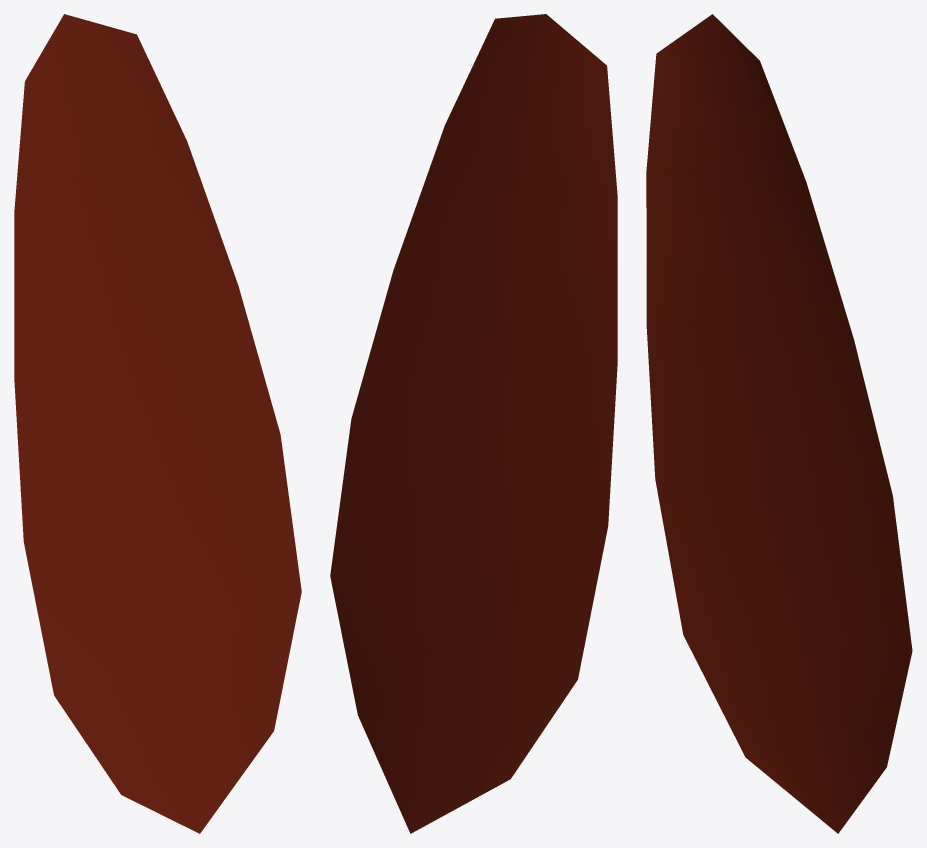
The model's file is pheasant_feather_flight_tertiary_068.obj.
3 views of the same model, side by side, from view 1: azimuth 30°, elevation 25°; view 2: azimuth 150°, elevation 25°; view 3: azimuth 330°, elevation 25° (orthographic). The views are drawn at different scales.
Parts seen in each view (by area): view 1: feather_flight_tertiary_068; view 2: feather_flight_tertiary_068; view 3: feather_flight_tertiary_068.
Part boxes in pixels (<box>): feather_flight_tertiary_068: <box>14,14,301,833</box>; feather_flight_tertiary_068: <box>330,14,617,833</box>; feather_flight_tertiary_068: <box>646,14,912,833</box>.
Size of the model in its own units: 0.00979 by 0.0278 by 0.000634.
